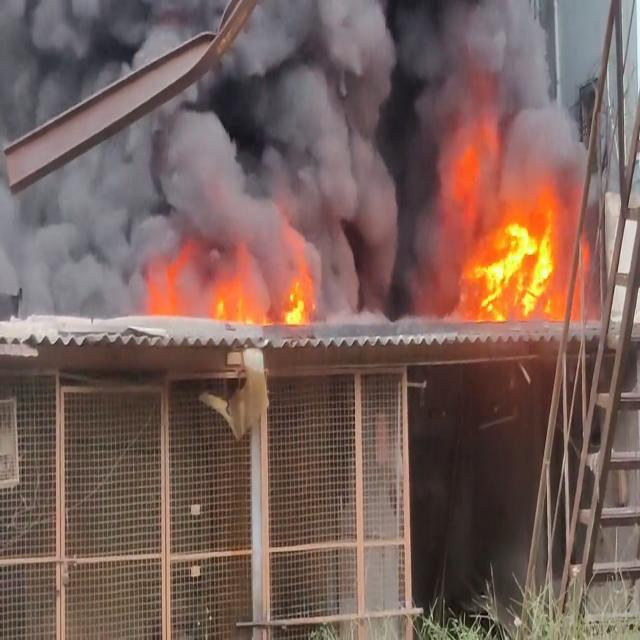Fire: (146, 228, 320, 326), (456, 204, 568, 323)
Smoke: (194, 25, 414, 314), (14, 108, 172, 315), (9, 0, 150, 138), (158, 111, 282, 264), (486, 0, 558, 119)
